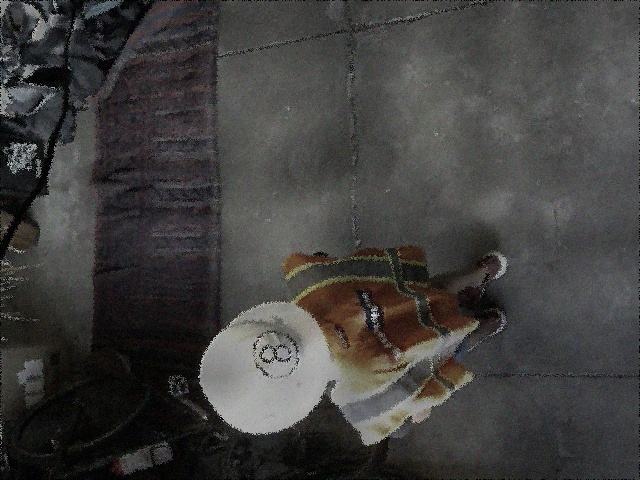eight: (250, 331, 300, 379)
